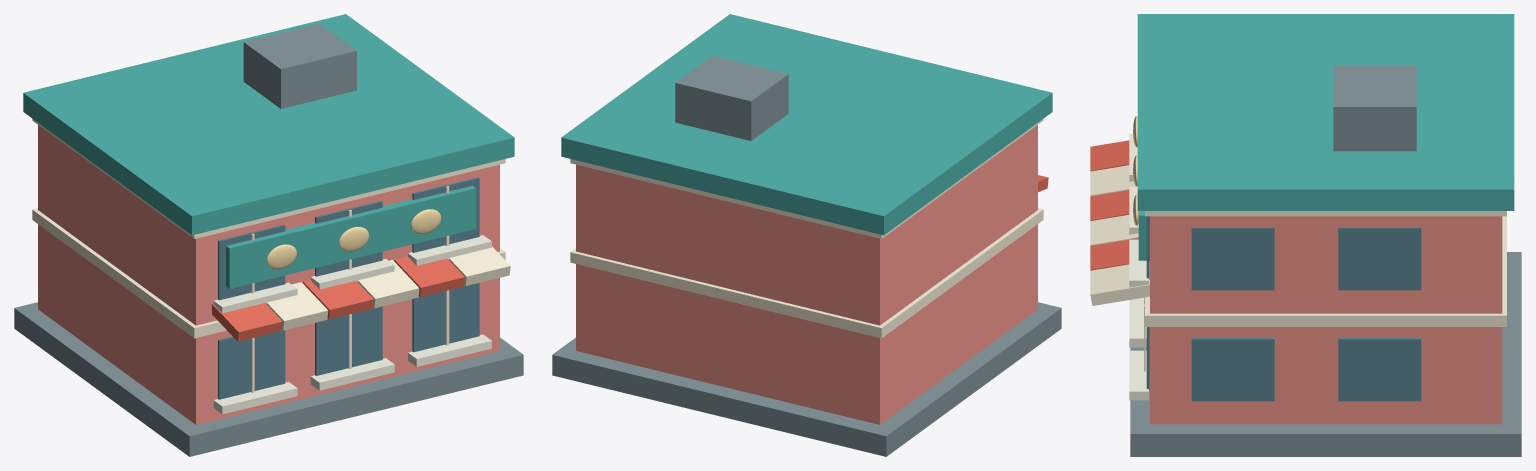
Rendered from bakery.glb.
3 views of the same model, side by side, from view 1: azimuth 30°, elevation 25°; view 2: azimuth 150°, elevation 25°; view 3: azimuth 270°, elevation 25° (orthographic). The views are drawn at different scales.
Parts seen in each view (by area): view 1: Roof.002, Storey0.002, Storey1.002, Foundation.002, Shop sign.002, Rooftop unit.002, Window.018, Window.019, Window.020, Trim0.002, Trim1.002, Awning.012 (+17 smaller); view 2: Roof.002, Storey0.002, Storey1.002, Foundation.002, Rooftop unit.002, Trim0.002, Trim1.002; view 3: Roof.002, Storey1.002, Storey0.002, Foundation.002, Rooftop unit.002, Trim0.002, SideWindow.012, SideWindow.013, SideWindow.014, SideWindow.015, Trim1.002, Awning.017 (+9 smaller).
Part boxes in pixels (<box>): Roof.002: <box>23,14,514,235</box>; Storey0.002: <box>38,224,499,424</box>; Storey1.002: <box>38,125,499,325</box>; Foundation.002: <box>14,302,523,456</box>; Shop sign.002: <box>226,185,476,288</box>; Rooftop unit.002: <box>243,23,356,108</box>; Window.018: <box>218,329,285,399</box>; Window.019: <box>315,306,382,375</box>; Window.020: <box>412,283,479,352</box>; Trim0.002: <box>32,208,505,338</box>; Trim1.002: <box>32,119,505,238</box>; Awning.012: <box>212,303,282,341</box>; Roof.002: <box>561,14,1052,235</box>; Storey0.002: <box>576,224,1037,424</box>; Storey1.002: <box>576,125,1037,325</box>; Foundation.002: <box>552,302,1061,456</box>; Rooftop unit.002: <box>675,55,788,140</box>; Trim0.002: <box>570,208,1043,338</box>; Trim1.002: <box>570,119,1043,238</box>; Roof.002: <box>1137,14,1514,210</box>; Storey1.002: <box>1150,216,1502,313</box>; Storey0.002: <box>1150,327,1502,424</box>; Foundation.002: <box>1130,252,1521,456</box>; Rooftop unit.002: <box>1333,65,1416,151</box>; Trim0.002: <box>1145,216,1506,326</box>; SideWindow.012: <box>1191,338,1274,401</box>; SideWindow.013: <box>1338,338,1421,401</box>; SideWindow.014: <box>1191,227,1274,290</box>; SideWindow.015: <box>1338,227,1421,290</box>; Trim1.002: <box>1145,211,1506,216</box>; Awning.017: <box>1090,261,1149,305</box>.
Bounding box in the file's own units: 4.4 × 3.48 × 4.41.
